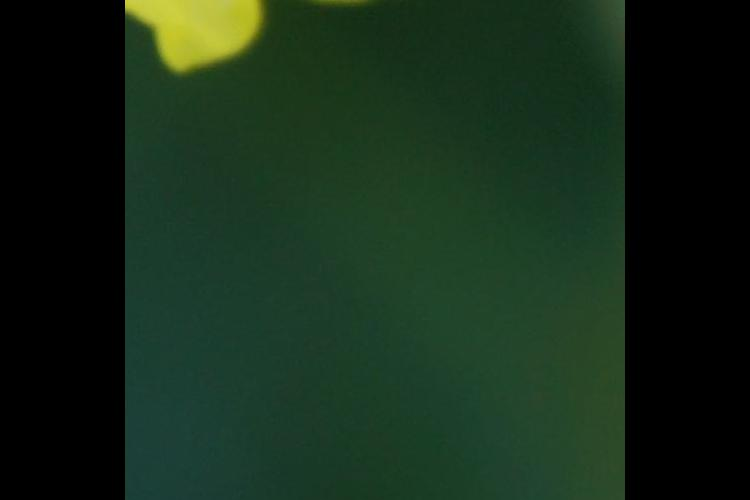yellow: (149, 1, 482, 66)
